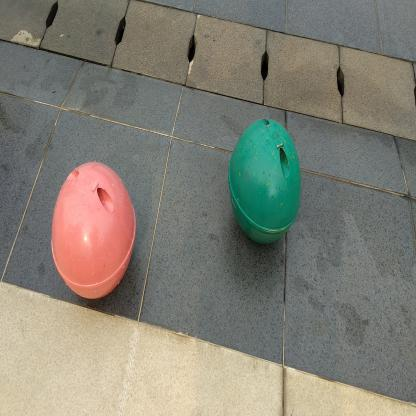green_buoy: (225, 112, 304, 256)
red_buoy: (49, 154, 140, 313)
